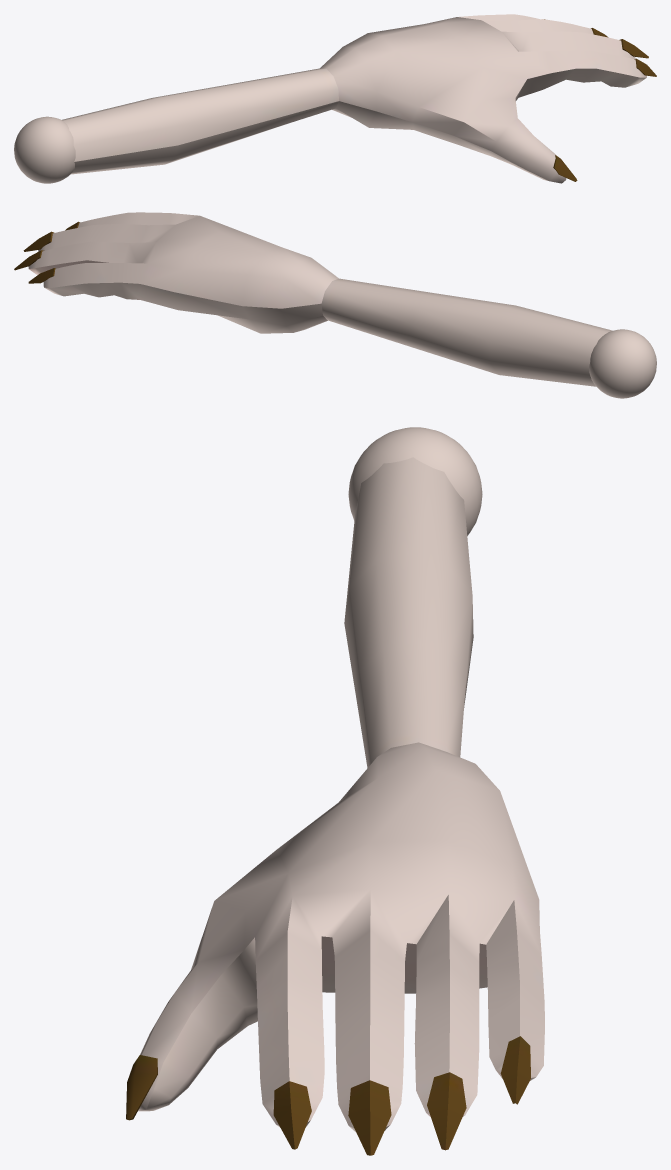
The model's file is antebrazo_D.obj.
The picture shows the model from 3 angles, top to bottom: view 1: azimuth 30°, elevation 25°; view 2: azimuth 150°, elevation 25°; view 3: azimuth 270°, elevation 25°; orthographic projection. The views are drawn at different scales.
Parts seen in each view (by area): view 1: antebrazo_D; view 2: antebrazo_D; view 3: antebrazo_D.
Part boxes in pixels (x1,y1,x2,y2): antebrazo_D: (14, 14, 656, 183); antebrazo_D: (14, 212, 656, 398); antebrazo_D: (126, 427, 544, 1155).
Bounding box in the file's own units: 53.98 × 10.16 × 15.81.
2 materials, 2 textured.
